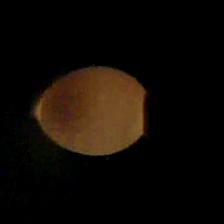infertile: (32, 62, 146, 156)
